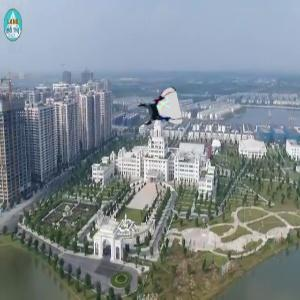drone: (138, 90, 181, 133)
